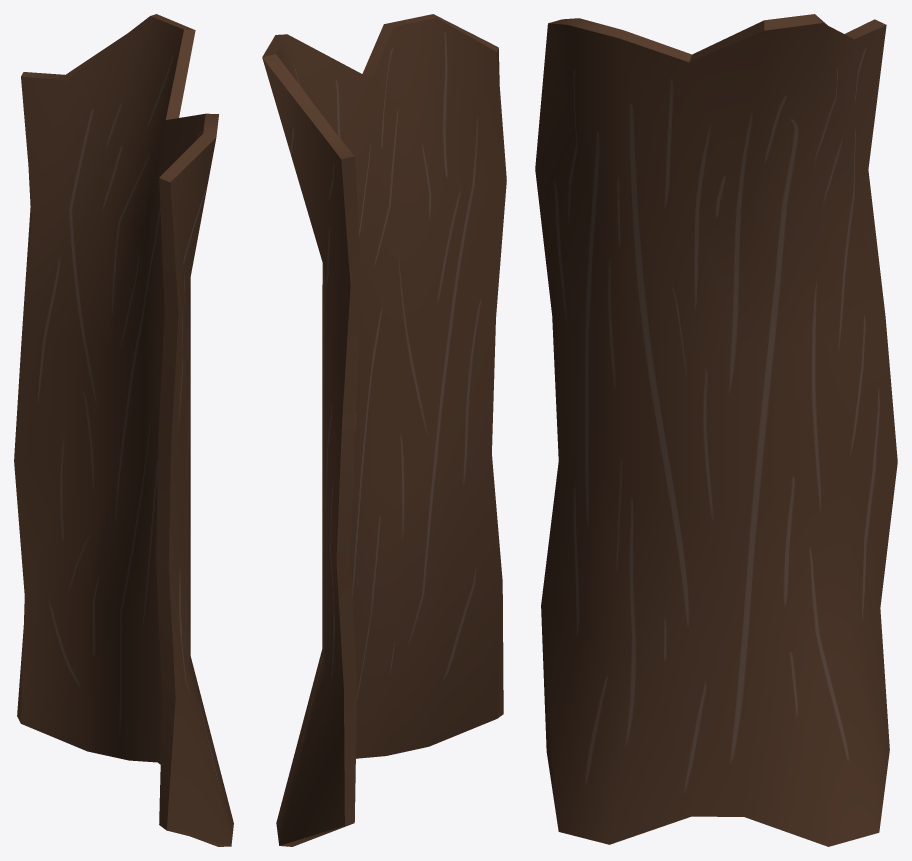
Rendered from Big Bark.fbx.
The picture shows the model from 3 angles, left to right: view 1: azimuth 30°, elevation 25°; view 2: azimuth 150°, elevation 25°; view 3: azimuth 270°, elevation 25°; orthographic projection. The views are drawn at different scales.
Parts seen in each view (by area): view 1: BigBark_01; view 2: BigBark_01; view 3: BigBark_01.
Part boxes in pixels (x1,y1,x2,y2): BigBark_01: (14, 14, 233, 846); BigBark_01: (262, 14, 506, 846); BigBark_01: (535, 14, 897, 846).
Size of the model in its own units: 10.53 by 58.52 by 22.92.
Materials: 1 (1 with a texture image).
